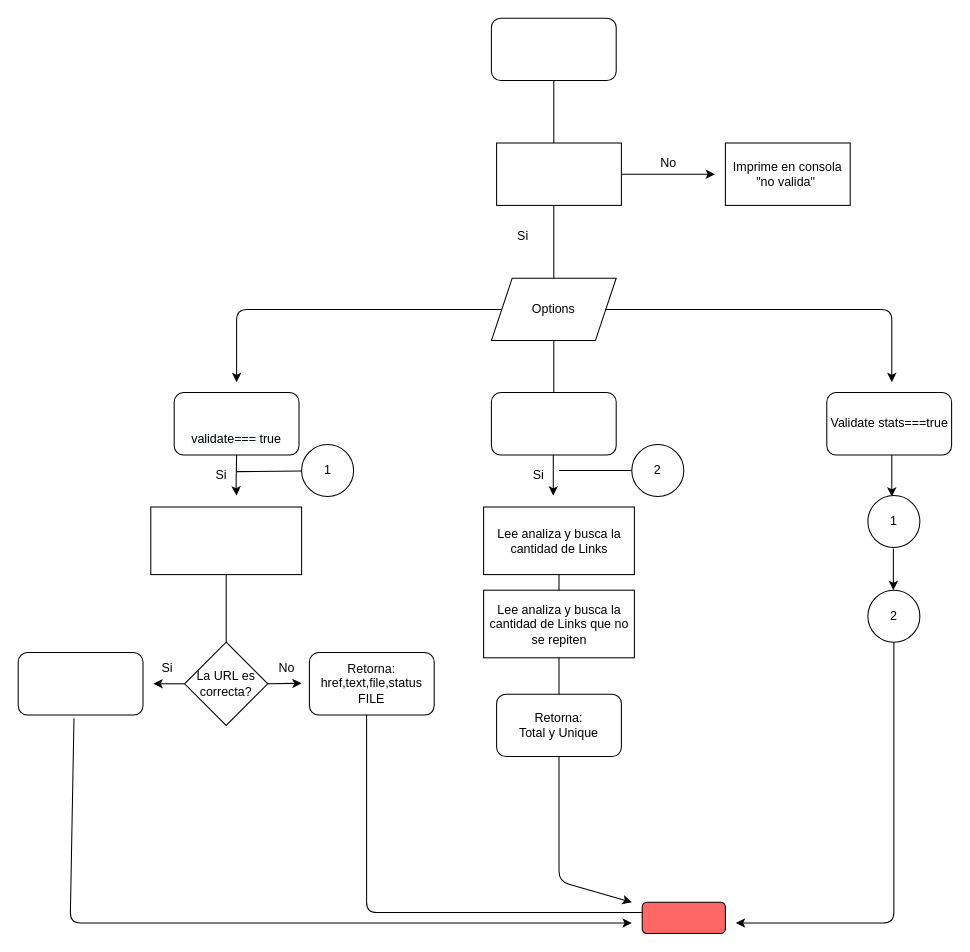
Image size: 970x952. Some labels were removed from this diagram. Here are the shapes that lost their labels. From the top down, the centre of each, then its label:
At (553,49): "Ingresar comandos npm install".
At (558,173): "Ruta(path)".
At (553,423): "Stats===true".
At (226,540): "Hacer peticion HTTP".
At (80,683): "Retorna: href,text,file,status OK".
At (683,917): "Fin".
